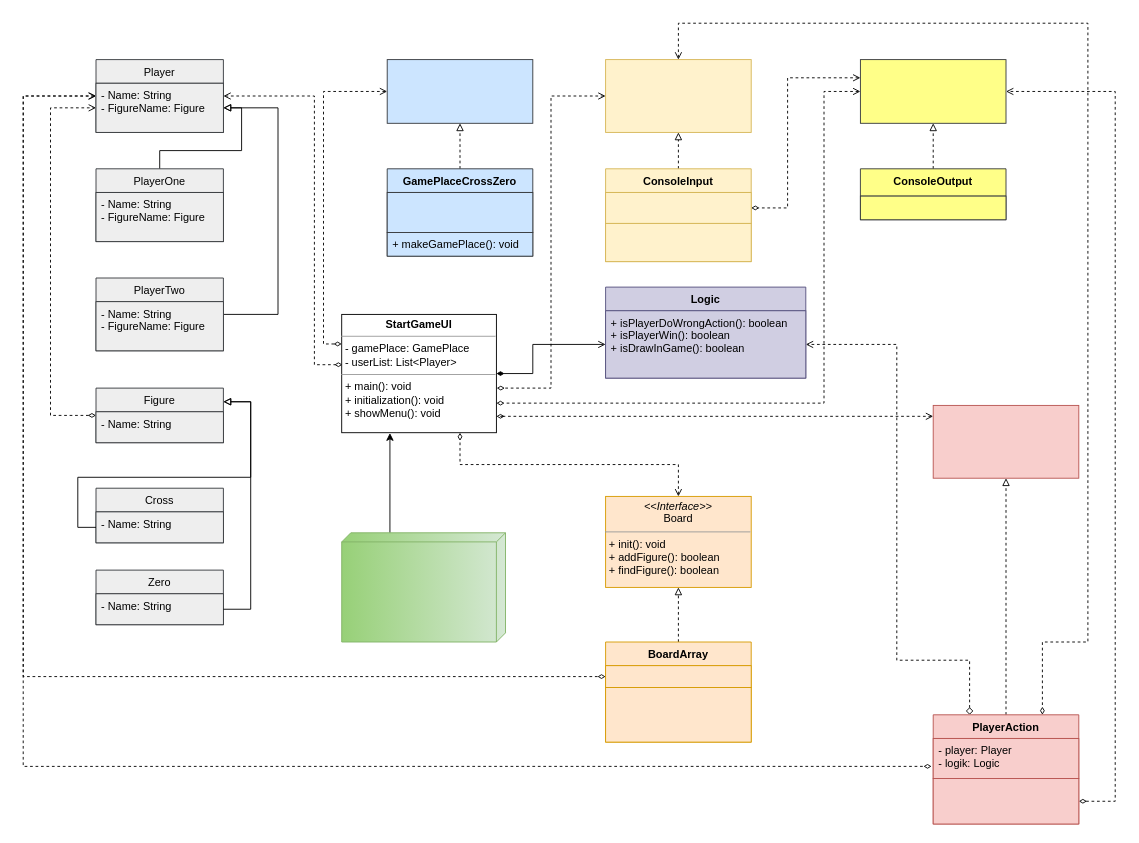
Some shapes in this 1139 by 843 pixel diagram are drawn without their labels. Here are the shapes that lost their labels. From the top down, the centre of each, then its label:
At point (459, 91): "<<Interface>> GamePlace + makeGamePlace(): void".
At point (678, 95): "<<Interface>> Input + askStr(String str): String + askInt(String str): int".
At point (932, 91): "<<Interface>> Output + makeOutput(): void".
At point (459, 212): "- row = 3: int - column = 3: int".
At point (678, 207): "- in: Input - out: Output".
At point (932, 207): "+ makeOutput(): void".
At point (678, 242): "+ askStr(String str): String + askInt(String str): int".
At point (1005, 441): "<<Interface>> Avction + name(): String + makeAction(): boolean".
At point (423, 587): "TESTs".
At point (678, 676): "- player: Player".
At point (678, 714): "+ init(): void + addFigure(): boolean + findFigure(): boolean".
At point (1005, 801): "+ name(): String + makeAction(): boolean".
